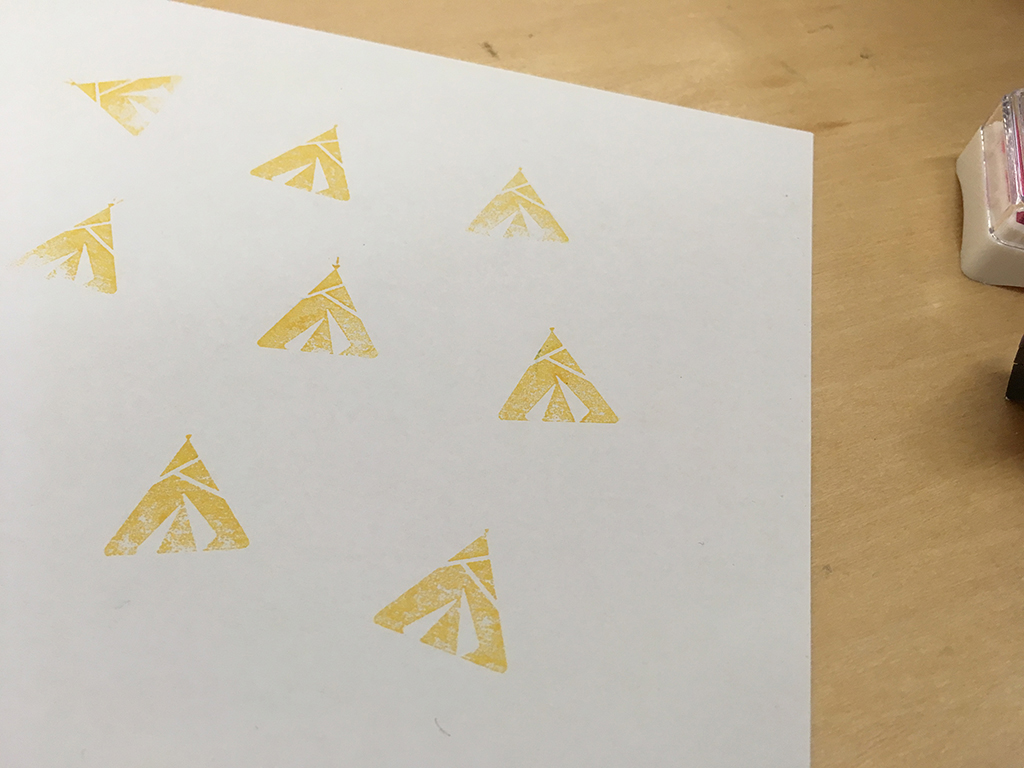tent: (370, 521, 516, 679), (100, 428, 259, 561), (494, 316, 626, 434), (253, 251, 377, 357), (9, 191, 124, 296), (457, 156, 576, 253), (246, 117, 355, 207), (61, 66, 189, 136)
